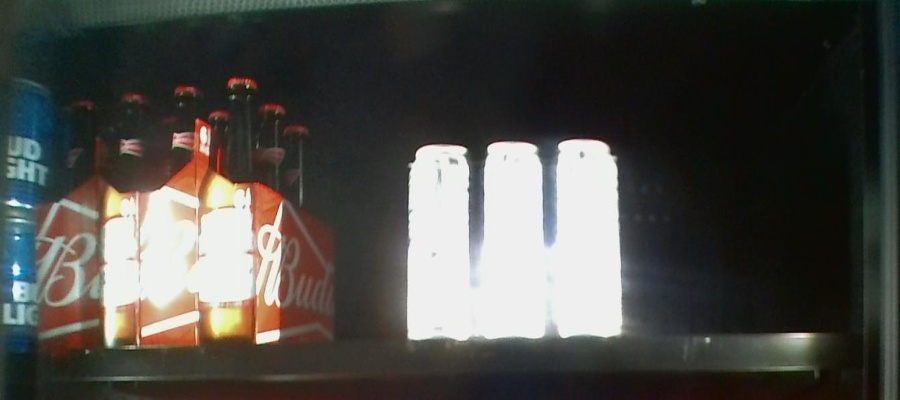bottle: (405, 143, 624, 341), (145, 82, 262, 343), (46, 86, 141, 347)
